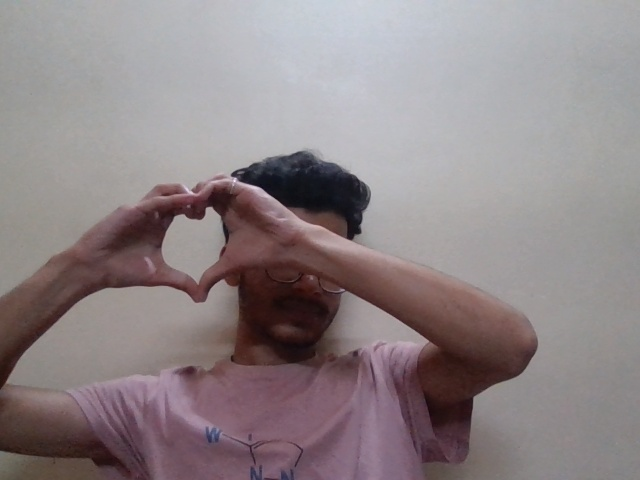silent-voice: (71, 169, 317, 320)
